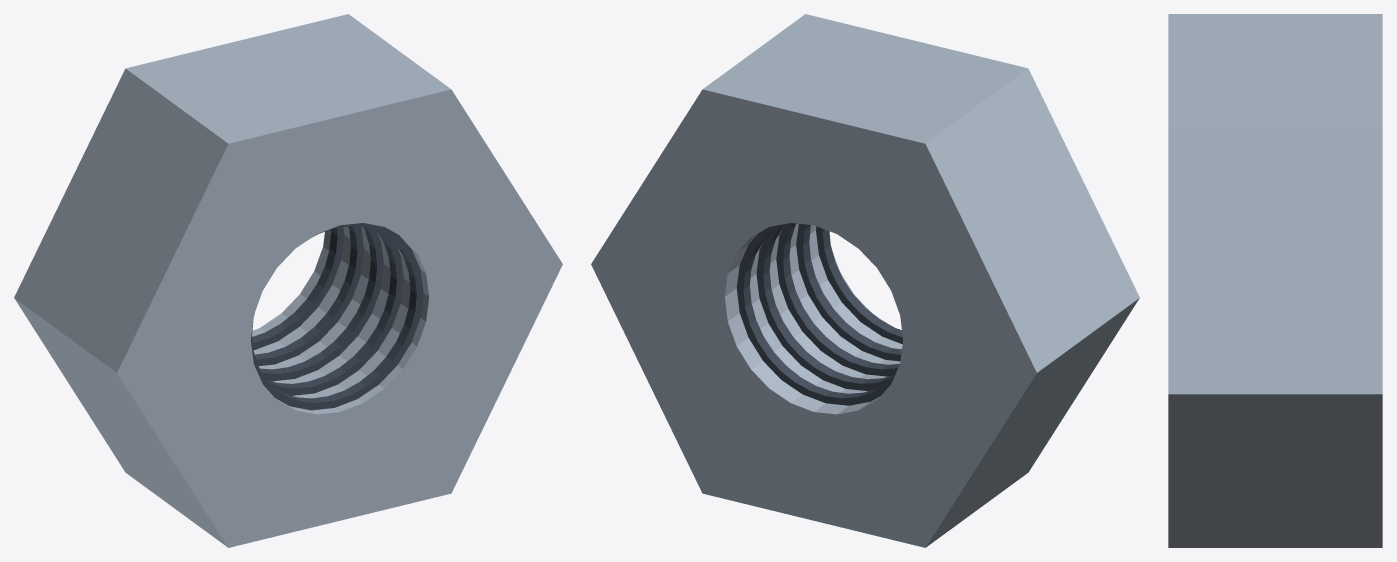
The model's file is hex_nut.obj.
3 renders of one model, left to right at view 1: azimuth 30°, elevation 25°; view 2: azimuth 150°, elevation 25°; view 3: azimuth 270°, elevation 25°, orthographic. The views are drawn at different scales.
Visible parts, largest first — view 1: hex_nut; view 2: hex_nut; view 3: hex_nut.
Boxes of the visible parts, left/top/right/bottom form: hex_nut: left=14, top=14, right=562, bottom=547; hex_nut: left=591, top=14, right=1139, bottom=547; hex_nut: left=1168, top=14, right=1382, bottom=547.
Size of the model in its own units: 2 by 1.73 by 0.8.
